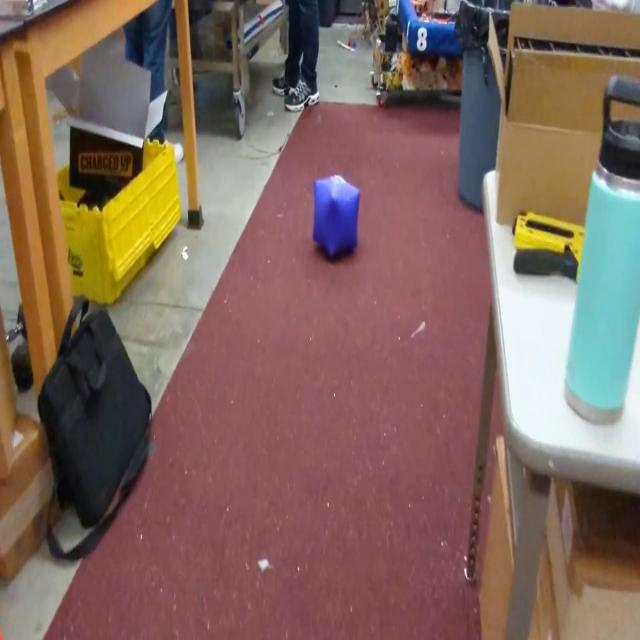frc_cube: (312, 172, 362, 262)
